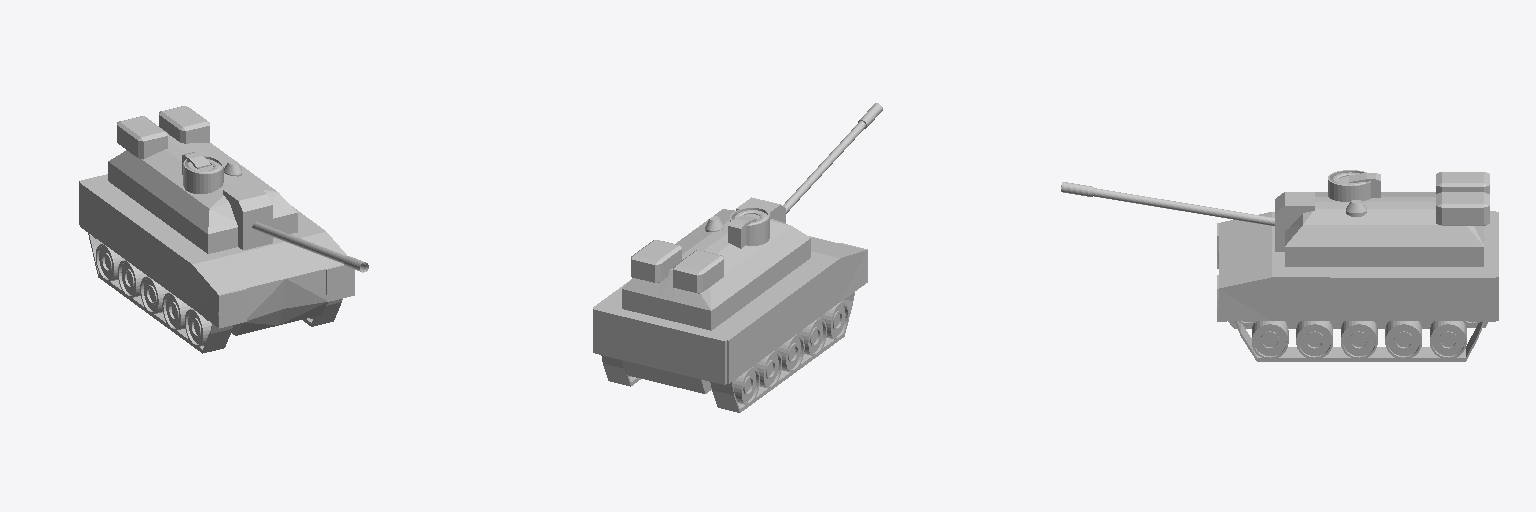
The model's file is tank.obj.
3 views of the same model, side by side, from view 1: azimuth 30°, elevation 25°; view 2: azimuth 150°, elevation 25°; view 3: azimuth 270°, elevation 25° (orthographic).
Parts seen in each view (by area): view 1: Bottom_Cube.001, Top_Cube.002, Cylinder.005_Cylinder.006, Cube_Cube.003, Cylinder.001, Cube.002_Cube.005, Cylinder.002; view 2: Bottom_Cube.001, Top_Cube.002, Cylinder.005_Cylinder.006, Cube_Cube.003, Cylinder.001, Cube.002_Cube.005, Cylinder.002, Cube.001_Cube.004; view 3: Bottom_Cube.001, Top_Cube.002, Cylinder.003_Cylinder.004, Cube_Cube.003, Cube.001_Cube.004, Cylinder.002, Cylinder.001.
Boxes of the visible parts, x1=… form: Bottom_Cube.001: x1=79, y1=174, x2=354, y2=335; Top_Cube.002: x1=108, y1=134, x2=297, y2=253; Cylinder.005_Cylinder.006: x1=96, y1=244, x2=211, y2=346; Cube_Cube.003: x1=117, y1=106, x2=209, y2=159; Cylinder.001: x1=182, y1=152, x2=223, y2=193; Cube.002_Cube.005: x1=88, y1=233, x2=232, y2=353; Cylinder.002: x1=252, y1=222, x2=368, y2=272; Bottom_Cube.001: x1=593, y1=236, x2=867, y2=393; Top_Cube.002: x1=622, y1=197, x2=810, y2=330; Cylinder.005_Cylinder.006: x1=733, y1=302, x2=848, y2=404; Cube_Cube.003: x1=631, y1=240, x2=723, y2=293; Cylinder.001: x1=728, y1=207, x2=769, y2=248; Cube.002_Cube.005: x1=710, y1=292, x2=854, y2=412; Cylinder.002: x1=783, y1=103, x2=882, y2=213; Cube.001_Cube.004: x1=601, y1=355, x2=640, y2=386; Bottom_Cube.001: x1=1217, y1=211, x2=1498, y2=328; Top_Cube.002: x1=1275, y1=192, x2=1483, y2=266; Cylinder.003_Cylinder.004: x1=1252, y1=321, x2=1466, y2=359; Cube_Cube.003: x1=1436, y1=172, x2=1489, y2=225; Cube.001_Cube.004: x1=1235, y1=321, x2=1484, y2=361; Cylinder.002: x1=1061, y1=182, x2=1274, y2=225; Cylinder.001: x1=1328, y1=170, x2=1380, y2=201.
Size of the model in its own units: 0.7605 by 0.7757 by 2.1.